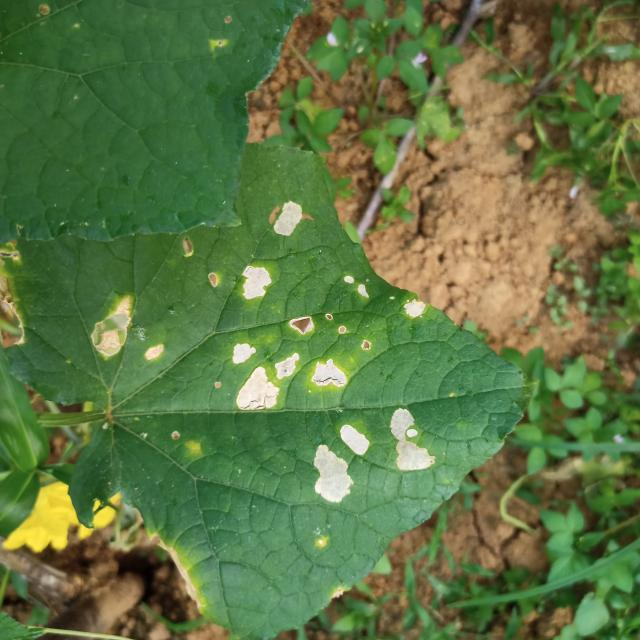disease_cucumber: (232, 315, 350, 413), (91, 294, 167, 365), (314, 422, 372, 503), (388, 406, 438, 476), (272, 200, 304, 240), (238, 264, 271, 302), (342, 274, 373, 304), (402, 296, 428, 321)
